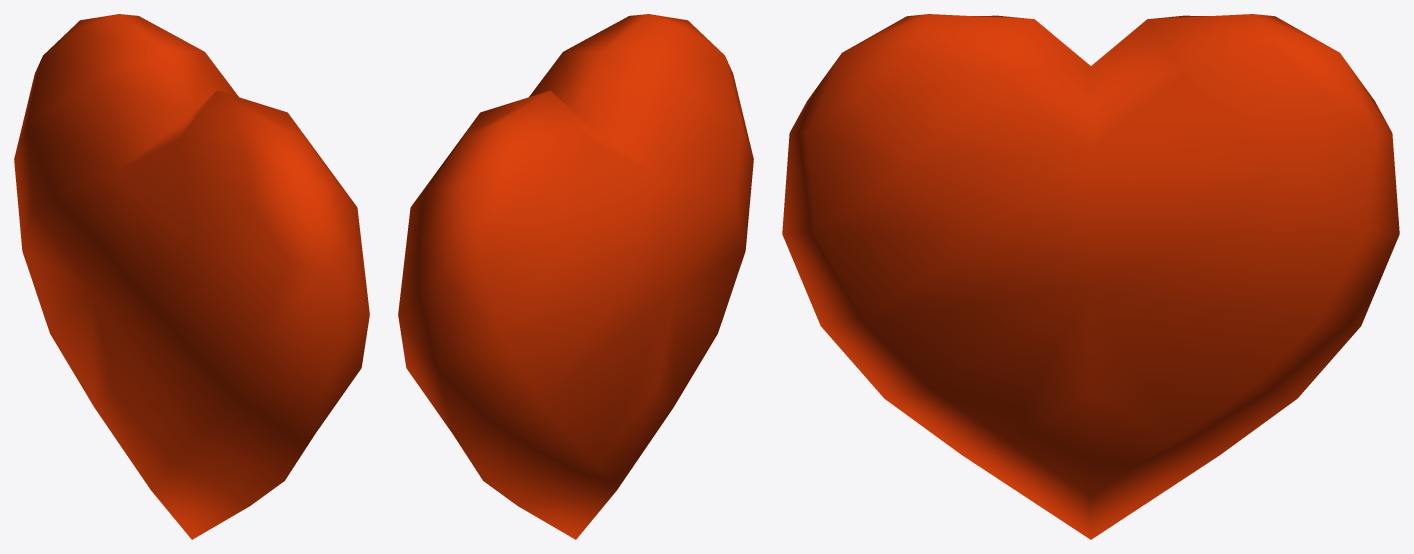
File: Heart.fbx
The picture shows the model from 3 angles, left to right: view 1: azimuth 30°, elevation 25°; view 2: azimuth 150°, elevation 25°; view 3: azimuth 270°, elevation 25°; orthographic projection. The views are drawn at different scales.
Parts seen in each view (by area): view 1: pSphere7; view 2: pSphere7; view 3: pSphere7.
Part boxes in pixels (bbox=[...]): pSphere7: bbox=[14, 14, 369, 539]; pSphere7: bbox=[398, 14, 753, 539]; pSphere7: bbox=[782, 14, 1399, 539].
Bounding box in the file's own units: 1.22 × 2.58 × 2.74.
